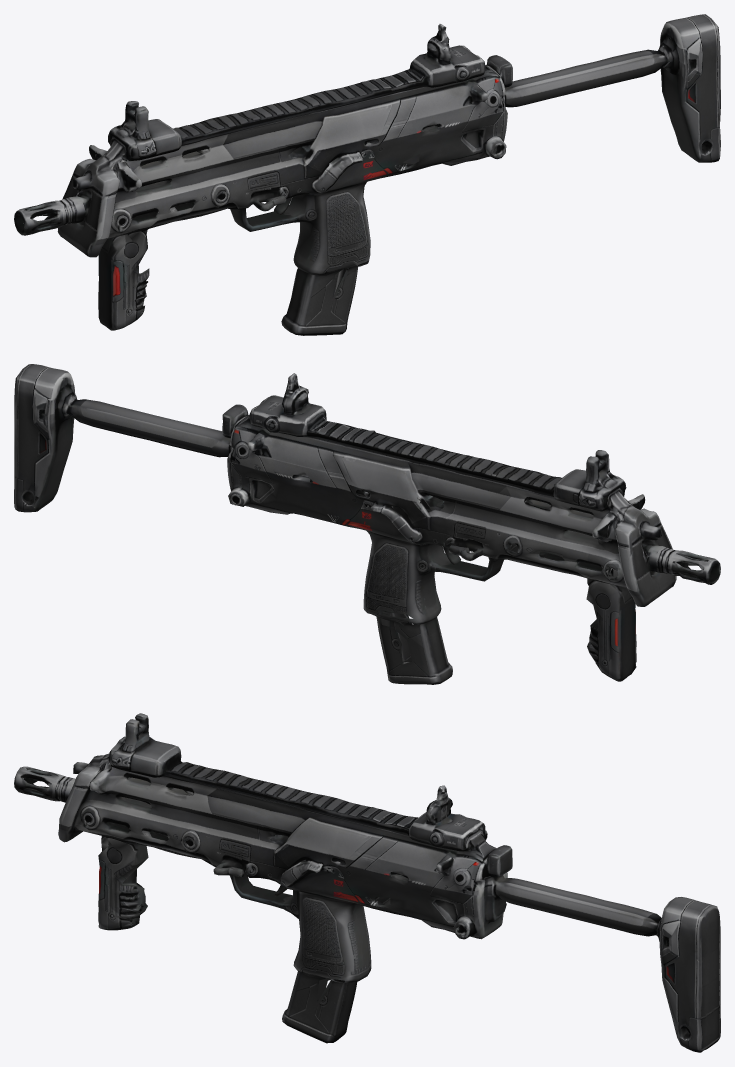
The model's file is tripo_convert_7aade073-ed92-4168-8879-104ba7b21c14.fbx.
3 views of the same model, one above another, from view 1: azimuth 30°, elevation 25°; view 2: azimuth 150°, elevation 25°; view 3: azimuth 330°, elevation 25° (orthographic).
Parts seen in each view (by area): view 1: tripo_node_7aade073; view 2: tripo_node_7aade073; view 3: tripo_node_7aade073.
Part boxes in pixels (x1,y1,x2,y2): tripo_node_7aade073: (14,14,720,335); tripo_node_7aade073: (14,364,720,684); tripo_node_7aade073: (14,713,720,1052).
Size of the model in its own units: 98.05 by 12.6 by 37.61.
Materials: 1 (1 with a texture image).
